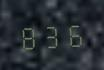eight: (18, 21, 39, 50)
six: (63, 19, 84, 48)
three: (41, 20, 62, 49)
